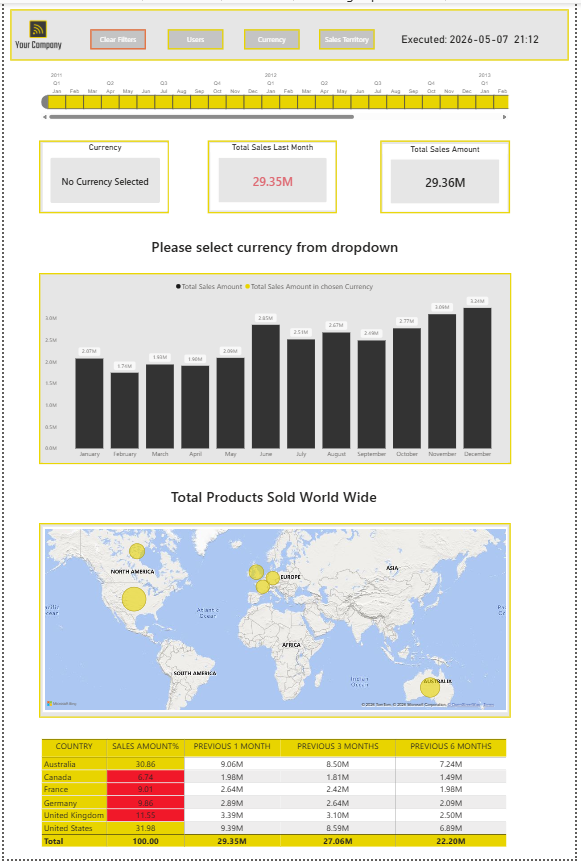

The page's visual inventory and layout, read from the dashboard file:
{"tool":"powerbi","page":{"name":"Page 2","canvas":[1280,1920],"ordinal":1},"visuals":[{"type":"shape","box":[456.1,309.1,289.8,163.5],"z":0},{"type":"shape","box":[844.8,309.1,291.2,163.5],"z":1000},{"type":"shape","box":[78.3,309.1,291.2,163.5],"z":2000},{"type":"cardVisual","title":"Currency","fields":{"Data":["#Measures.SalesAmountSelectedCurrency"]},"box":[85.6,313.5,280,152.7],"z":3000},{"type":"cardVisual","title":"Total Sales Last Month","fields":{"Data":["#Measures.PreviousOneMonth"]},"box":[461.5,314.6,279.9,151.5],"z":4000},{"type":"Timeline1447991079100","fields":{"Time":["Dim_Date.Date"]},"box":[78.5,144.2,1057.7,125],"z":5000},{"type":"shape","box":[13.7,13.7,1252.8,115.3],"z":6000},{"type":"image","box":[13.7,13.7,126.2,115.3],"z":7000},{"type":"actionButton","title":"Clear Filters","box":[193.7,60.2,125,45.3],"z":8000},{"type":"actionButton","title":"Clear Filters","box":[366.9,60.2,125,45.3],"z":9000},{"type":"actionButton","title":"Clear Filters","box":[537.3,60.2,125,45.3],"z":10000},{"type":"actionButton","title":"Clear Filters","box":[706,60.2,125,45.3],"z":11000},{"type":"card","fields":{"Values":["#Measures.Executed"]},"box":[857.2,59.1,375,45.3],"z":12000},{"type":"cardVisual","title":"Total Sales Amount","fields":{"Data":["#Measures.TotalSalesAmount"]},"box":[850.2,315.8,279.9,151.5],"z":22000},{"type":"cardVisual","fields":{"Data":["#Measures.TitleBar"]},"box":[77.8,502.2,1058.2,87.7],"z":23000},{"type":"shape","box":[77.5,606.6,1059.6,428.6],"z":24000},{"type":"lineStackedColumnComboChart","fields":{"Category":["Dim_Date.Month_name"],"Y":["#Measures.TotalSalesAmountALL"],"Y2":["#Measures.SalesAmountSelectedCurrency"]},"box":[86,613.7,1044,417.3],"z":25000},{"type":"cardVisual","fields":{"Data":["#Measures.MapTitle"]},"box":[76.4,1063.8,1059.6,83.5],"z":26000},{"type":"shape","box":[78.9,1166,1058.2,437.1],"z":27000},{"type":"map","fields":{"Category":["dim_SalesTeritory.SalesTerritoryCountry"],"Size":["#Measures.ProductsSold"]},"box":[87.4,1175.9,1042.6,415.9],"z":28000},{"type":"tableEx","fields":{"Values":["dim_SalesTeritory.SalesTerritoryCountry","#Measures.%Sales","#Measures.PreviousOneMonth","#Measures.PreviousThreeMonth","#Measures.PreviousSixMonth"]},"box":[77.8,1646.7,1058.2,253.2],"z":29000}]}

Visuals, with their boxes in screenshot pixels (x1, y1, x2, y2), scaled from the page's 1280x1920 canvas onto the 581x866 screenshot:
shape: x1=207 y1=139 x2=339 y2=213
shape: x1=383 y1=139 x2=516 y2=213
shape: x1=36 y1=139 x2=168 y2=213
"Currency" cardVisual: x1=39 y1=141 x2=166 y2=210
"Total Sales Last Month" cardVisual: x1=209 y1=142 x2=337 y2=210
Timeline1447991079100 - Dim_Date.Date: x1=36 y1=65 x2=516 y2=121
shape: x1=6 y1=6 x2=575 y2=58
image: x1=6 y1=6 x2=64 y2=58
"Clear Filters" actionButton: x1=88 y1=27 x2=145 y2=48
"Clear Filters" actionButton: x1=167 y1=27 x2=223 y2=48
"Clear Filters" actionButton: x1=244 y1=27 x2=301 y2=48
"Clear Filters" actionButton: x1=320 y1=27 x2=377 y2=48
card - #Measures.Executed: x1=389 y1=27 x2=559 y2=47
"Total Sales Amount" cardVisual: x1=386 y1=142 x2=513 y2=211
cardVisual - #Measures.TitleBar: x1=35 y1=227 x2=516 y2=266
shape: x1=35 y1=274 x2=516 y2=467
lineStackedColumnComboChart - Dim_Date.Month_name x #Measures.TotalSalesAmountALL: x1=39 y1=277 x2=513 y2=465
cardVisual - #Measures.MapTitle: x1=35 y1=480 x2=516 y2=517
shape: x1=36 y1=526 x2=516 y2=723
map - dim_SalesTeritory.SalesTerritoryCountry x #Measures.ProductsSold: x1=40 y1=530 x2=513 y2=718
tableEx - dim_SalesTeritory.SalesTerritoryCountry x #Measures.%Sales: x1=35 y1=743 x2=516 y2=857
